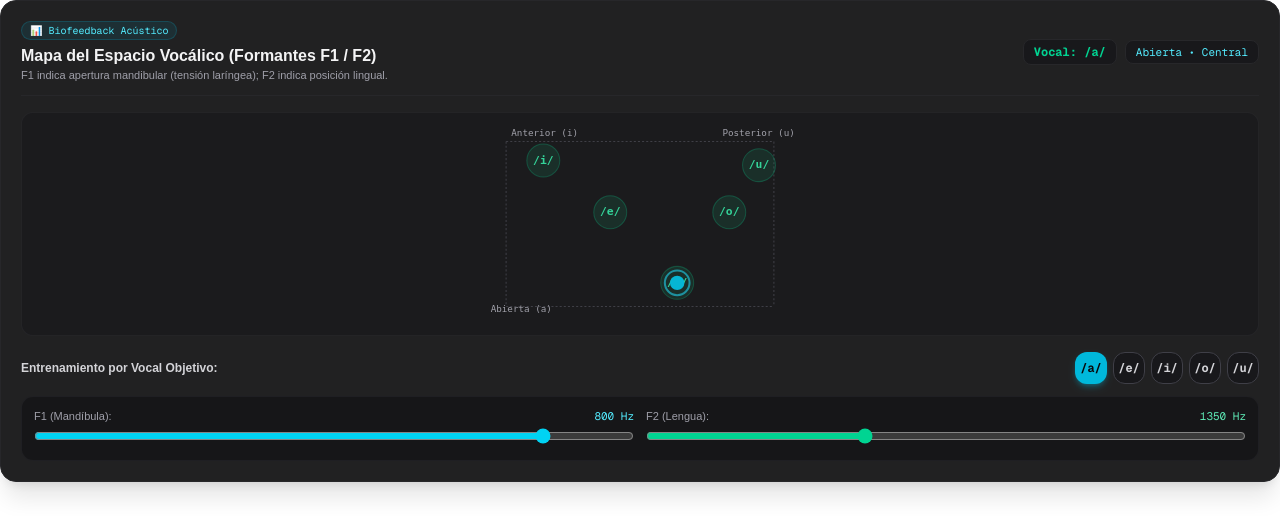
FormantBiofeedbackVisualizer Component › debe cambiar al preset de vocal al hacer clic en /i/
Step 1. Click the button "/i/" → (1167, 368), box [1151,352,1183,384]
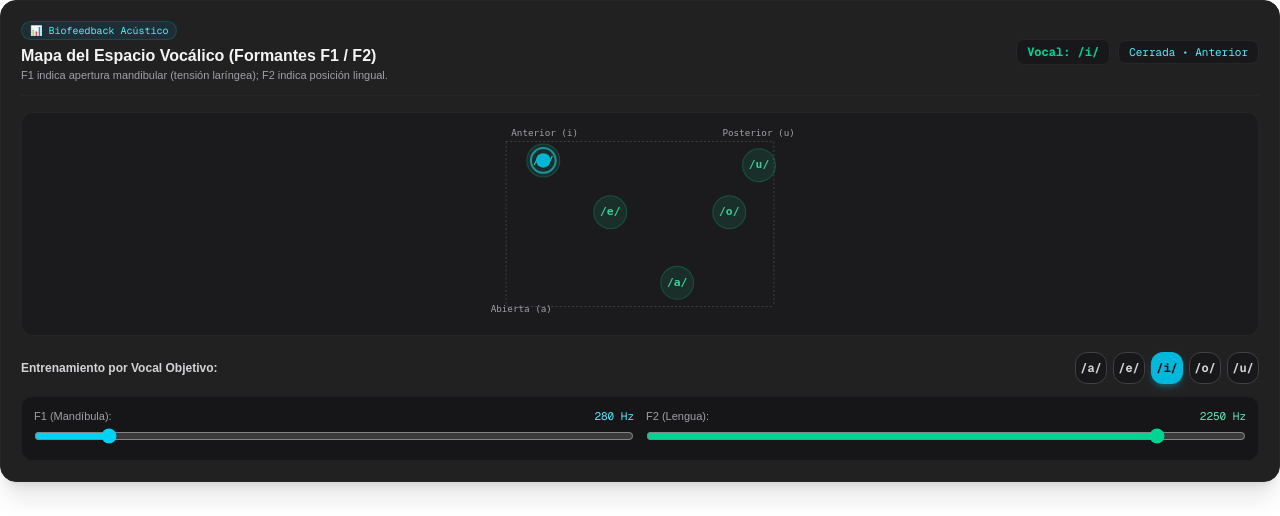
Now the text "Vocal: /i/" is shown, box [1016,39,1110,65]
Now the text "280 Hz" is shown, box [594,409,634,424]
Now the text "2250 Hz" is shown, box [1200,409,1246,424]
